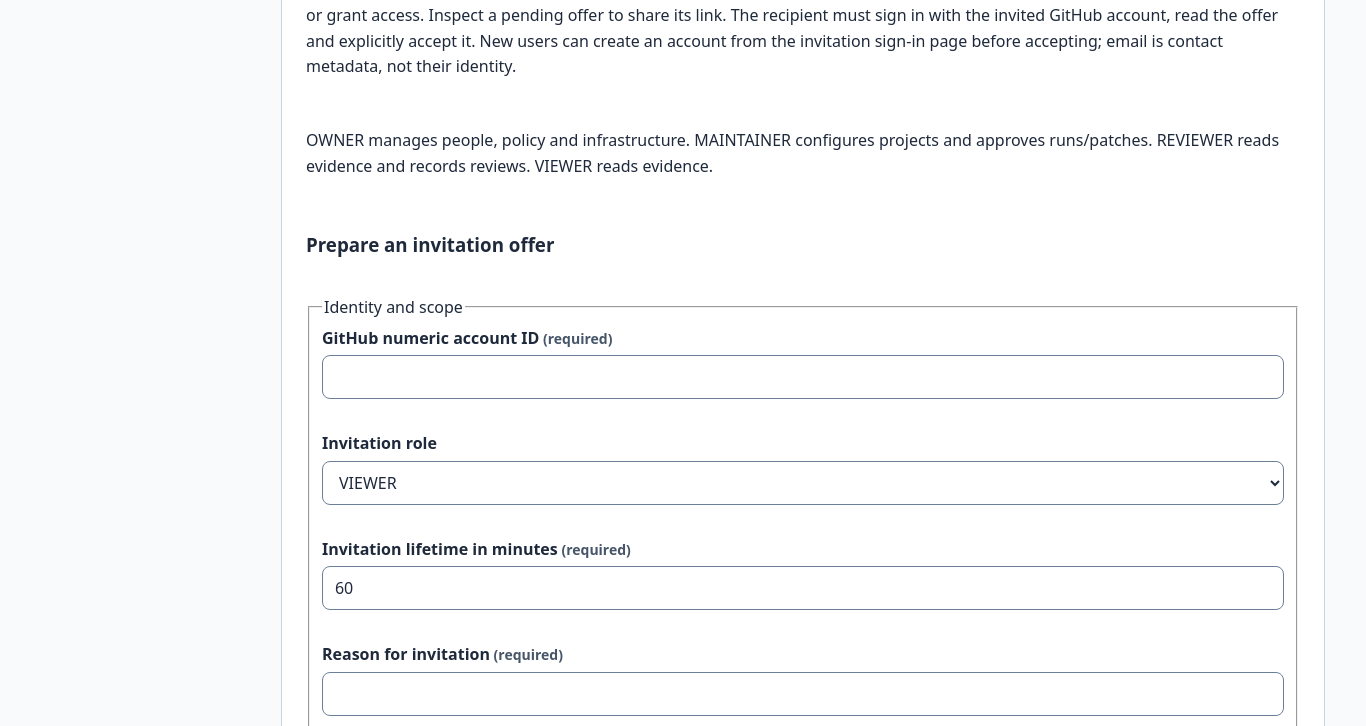
Scenario: owner invitation offers › reads offline save outcome without another PUT
(page scrolled)
Type "9223372036854775806" into the field labelled "GitHub numeric account ID (required)".
click(803, 377); type("9223372036854775806")  # box [322,355,1284,399]
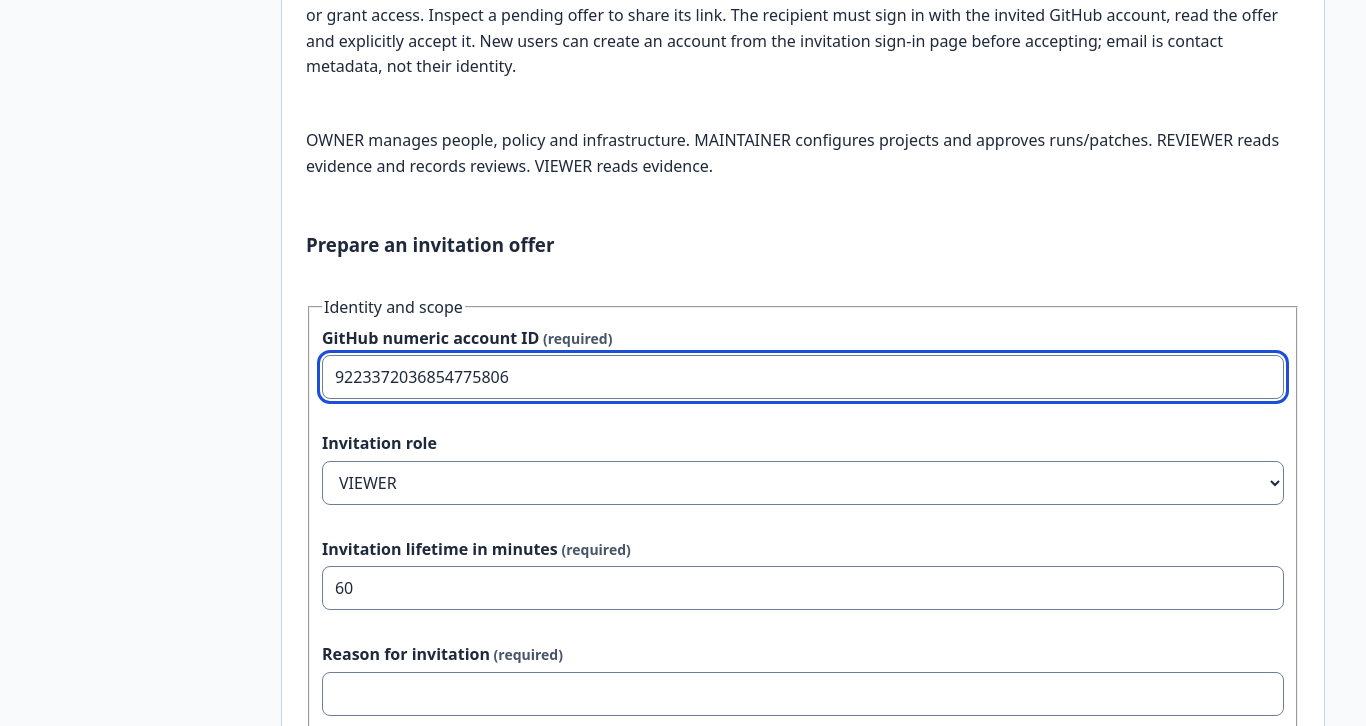
Select "REVIEWER" in the dropdown labelled "Invitation role" at x=803, y=483, box [322,461,1284,505]
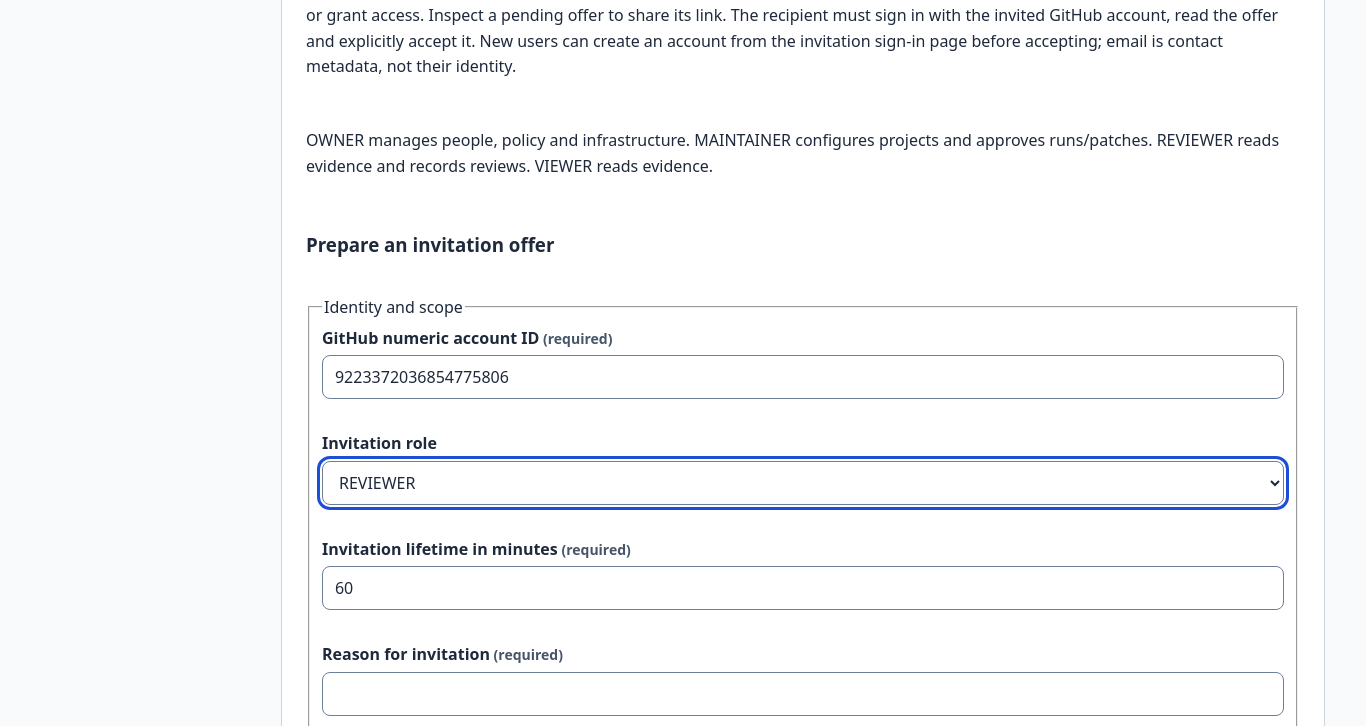
Type "Review evidence" into the field labelled "Reason for invitation (required)".
click(803, 694); type("Review evidence")  # box [322,672,1284,716]
(page scrolled)
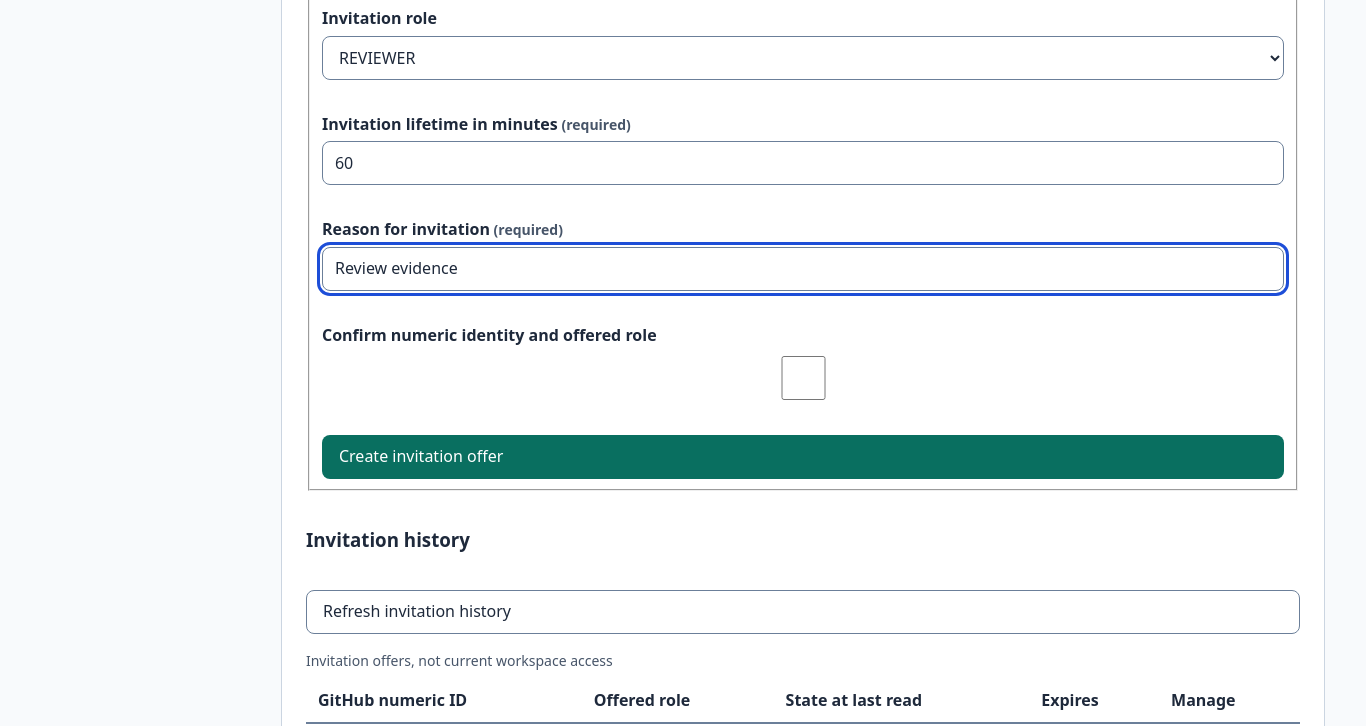
Click the checkbox labelled "Confirm numeric identity and offered role".
click(804, 378)  # box [326,356,1281,400]
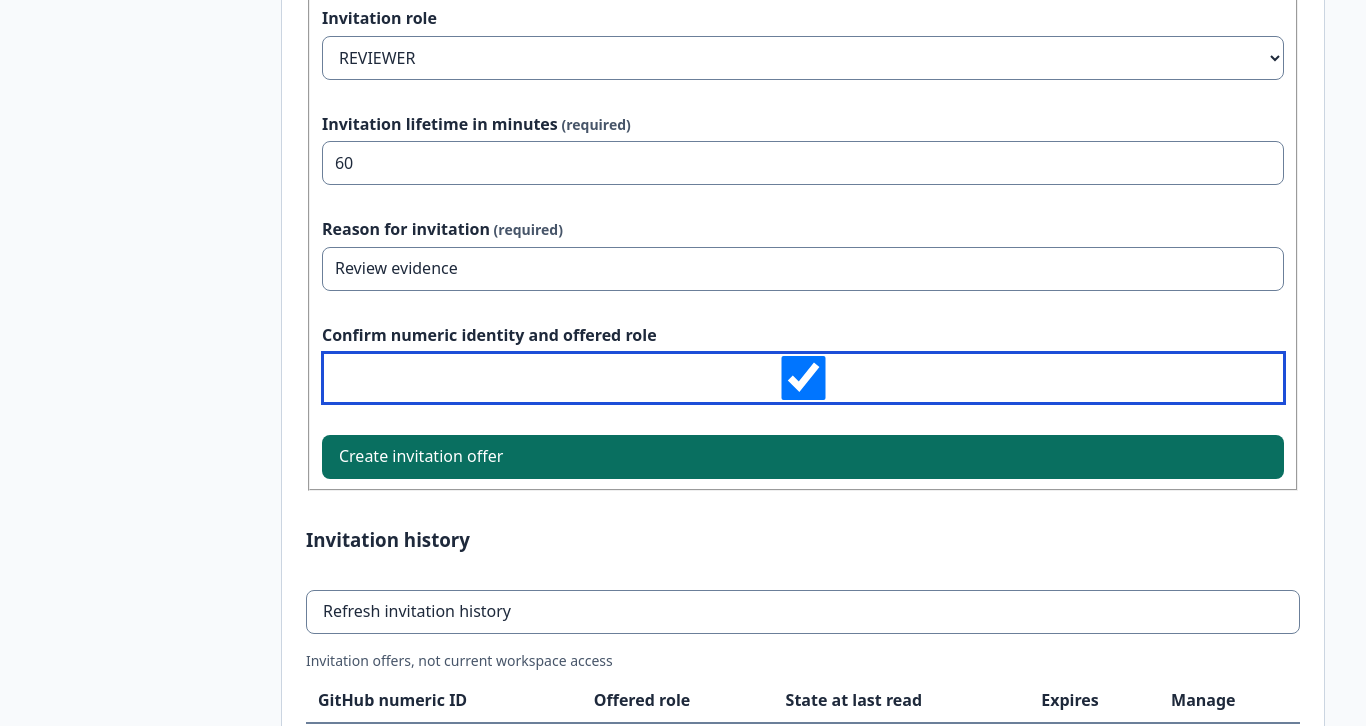
Click the button "Create invitation offer".
click(421, 456)  # box [322,435,1284,479]
(page scrolled)
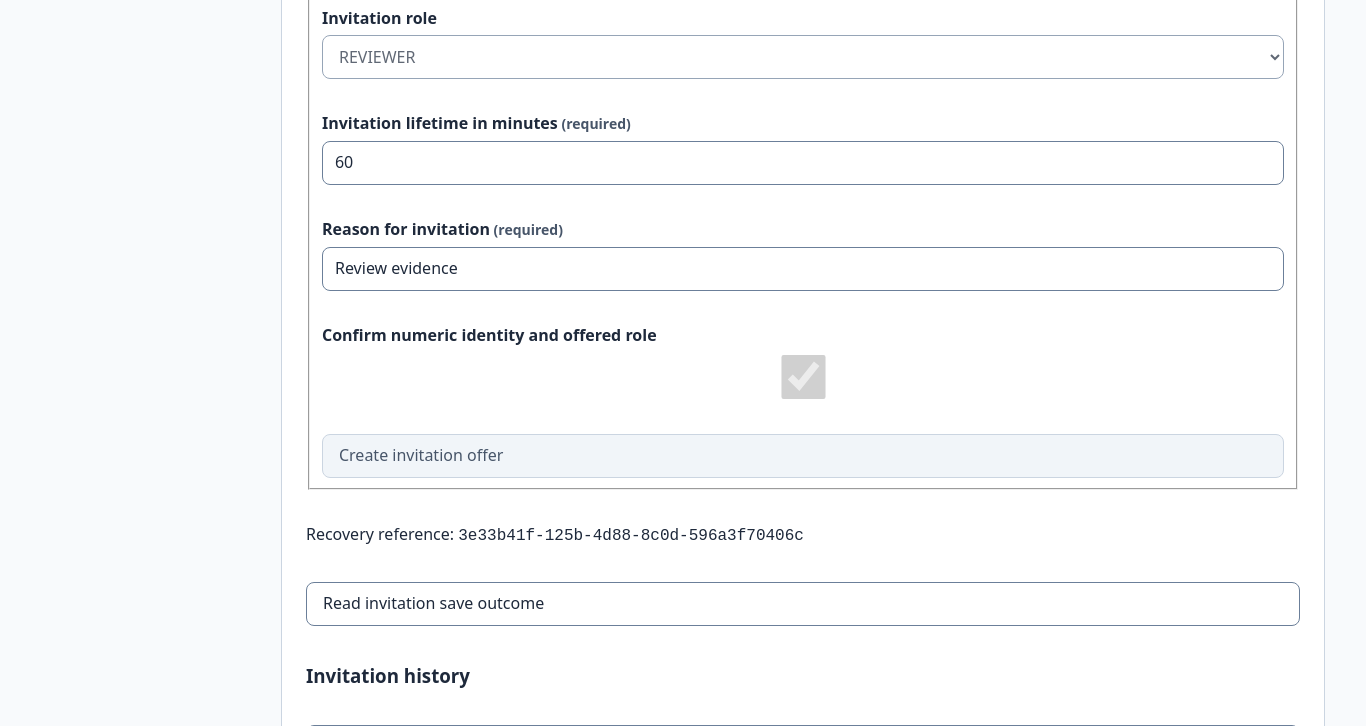
Click the button "Read invitation save outcome".
click(434, 603)  # box [306,582,1300,626]
(page scrolled)
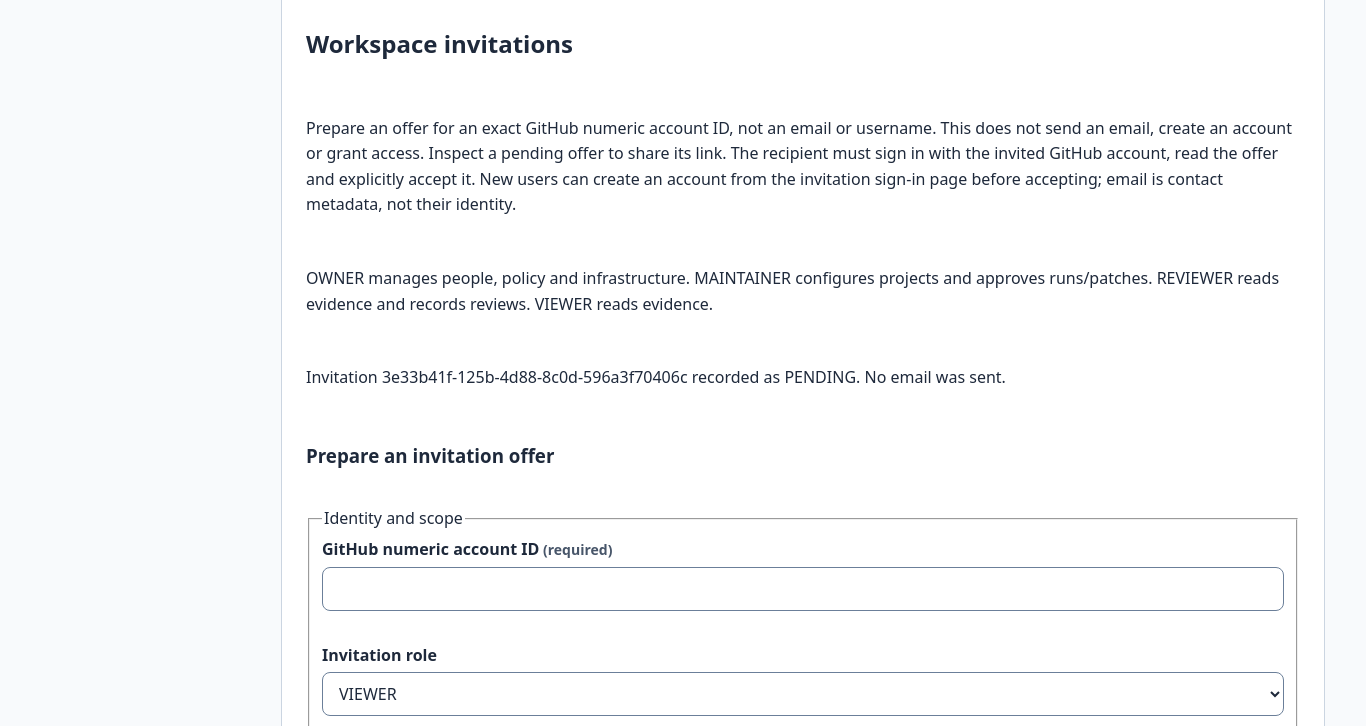
Expected: the text "recorded as PENDING. No email was sent" is shown, [306,366,1006,388]
